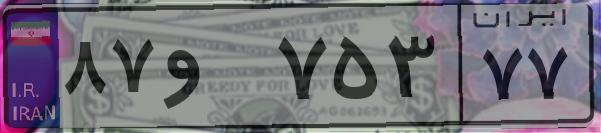3: (385, 28, 445, 110)
5: (330, 28, 385, 110)
7: (270, 28, 330, 110), (475, 38, 525, 113), (525, 38, 570, 115), (110, 28, 158, 98)
8: (57, 26, 110, 100)
و: (158, 20, 270, 120)
